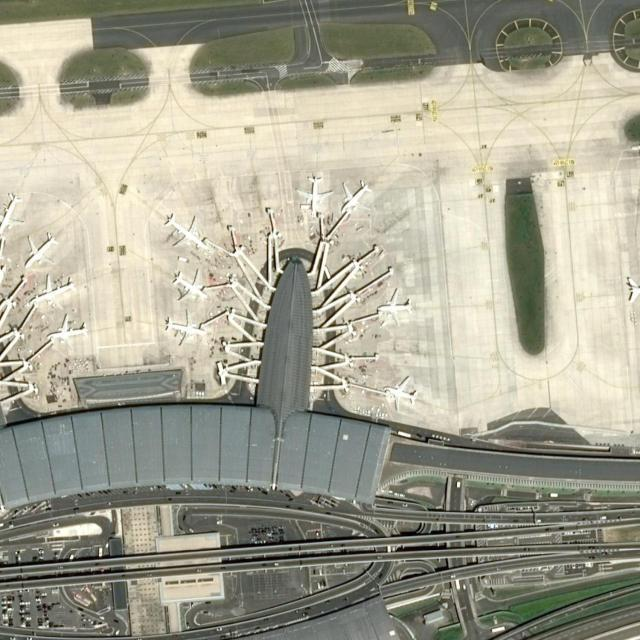Aircraft: (163, 210, 208, 252), (163, 308, 208, 348), (29, 274, 77, 310), (21, 229, 60, 269), (375, 286, 413, 326), (44, 315, 88, 349), (297, 173, 333, 214), (171, 267, 210, 303), (383, 372, 418, 412), (0, 188, 25, 240), (340, 179, 370, 213), (626, 274, 640, 308)
